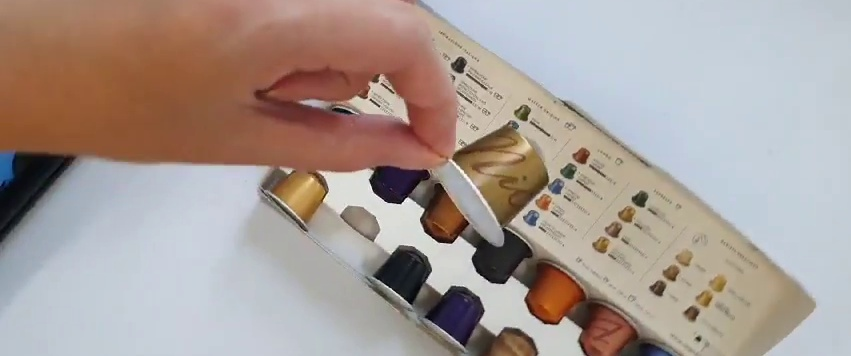capsule_9: (435, 123, 552, 248)
